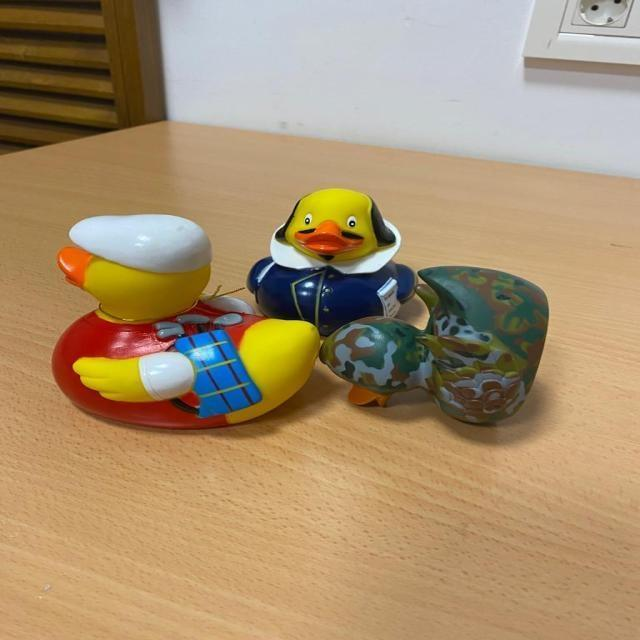rubber-duck: (52, 214, 281, 425), (351, 266, 547, 421), (246, 187, 414, 333)
